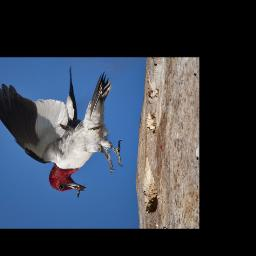Woodpecker: (0, 67, 123, 196)
